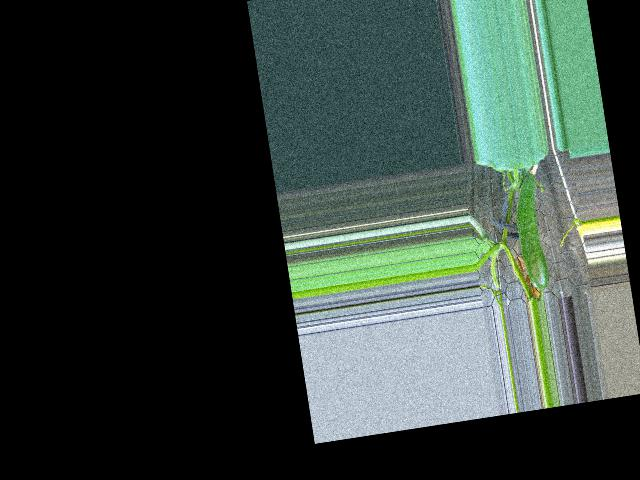cucumber: (509, 174, 551, 291)
